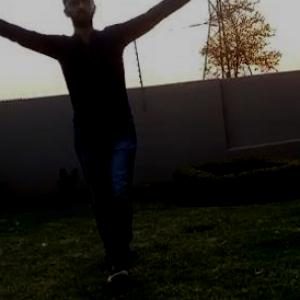takeoff: (1, 0, 202, 284)
